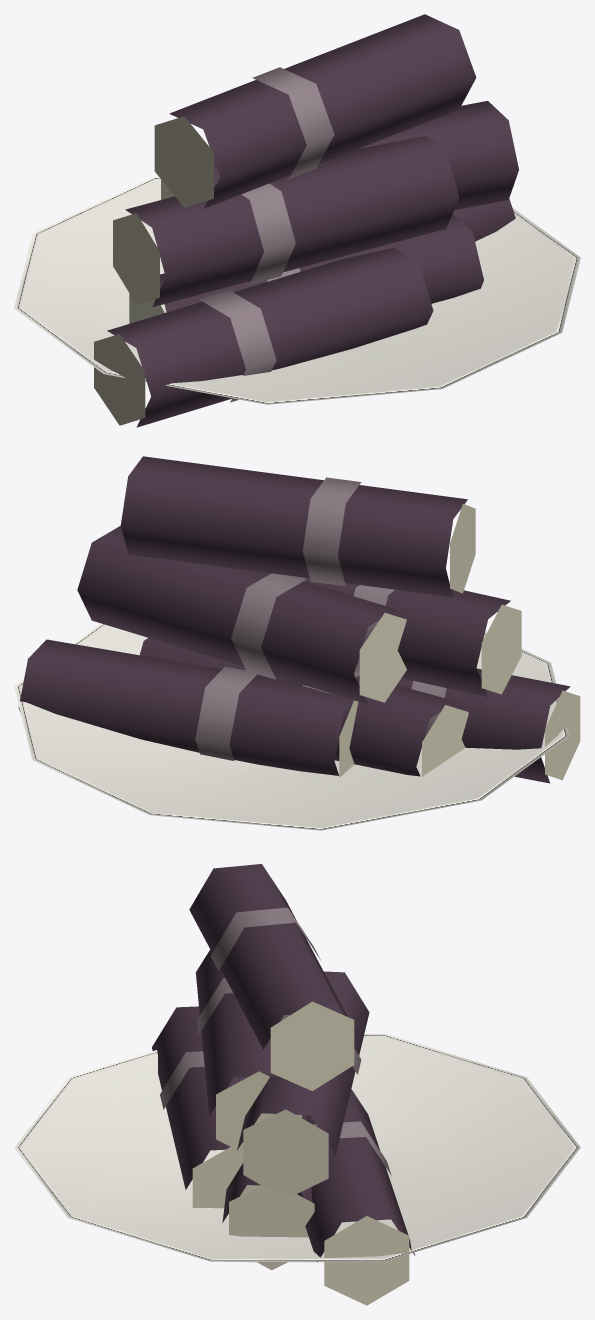
The model's file is MiaChatKhuc.glb.
The picture shows the model from 3 angles, top to bottom: view 1: azimuth 30°, elevation 25°; view 2: azimuth 150°, elevation 25°; view 3: azimuth 270°, elevation 25°; orthographic projection. The views are drawn at different scales.
Parts seen in each view (by area): view 1: MiaChatKhuc_Dia, KhucMia_4_Vo, KhucMia_6_Vo, KhucMia_1_Vo, KhucMia_5_Vo, KhucMia_2_Vo, KhucMia_6_MatCat, KhucMia_1_MatCat, KhucMia_6_Dot, KhucMia_4_MatCat, KhucMia_4_Dot, KhucMia_1_Dot (+2 smaller); view 2: MiaChatKhuc_Dia, KhucMia_6_Vo, KhucMia_5_Vo, KhucMia_3_Vo, KhucMia_4_Vo, KhucMia_2_Vo, KhucMia_1_Vo, KhucMia_6_Dot, KhucMia_5_Dot, KhucMia_3_Dot, KhucMia_5_MatCat, KhucMia_4_MatCat (+5 smaller); view 3: MiaChatKhuc_Dia, KhucMia_6_Vo, KhucMia_3_Vo, KhucMia_1_Vo, KhucMia_5_MatCat, KhucMia_6_MatCat, KhucMia_5_Vo, KhucMia_4_Vo, KhucMia_3_MatCat, KhucMia_2_MatCat, KhucMia_4_MatCat, KhucMia_1_MatCat (+5 smaller).
Boxes of the visible parts, box(x1,y1,x2,y2) form: MiaChatKhuc_Dia: box(14, 176, 580, 404); KhucMia_4_Vo: box(125, 136, 459, 307); KhucMia_6_Vo: box(169, 14, 476, 208); KhucMia_1_Vo: box(107, 248, 433, 427); KhucMia_5_Vo: box(214, 101, 518, 210); KhucMia_2_Vo: box(160, 214, 483, 312); KhucMia_6_MatCat: box(154, 116, 213, 207); KhucMia_1_MatCat: box(94, 334, 145, 425); KhucMia_6_Dot: box(252, 67, 334, 178); KhucMia_4_MatCat: box(113, 213, 159, 304); KhucMia_4_Dot: box(241, 183, 295, 284); KhucMia_1_Dot: box(199, 290, 276, 402); MiaChatKhuc_Dia: box(14, 623, 569, 830); KhucMia_6_Vo: box(120, 456, 467, 597); KhucMia_5_Vo: box(77, 525, 396, 704); KhucMia_3_Vo: box(18, 639, 353, 775); KhucMia_4_Vo: box(302, 577, 510, 697); KhucMia_2_Vo: box(140, 638, 456, 776); KhucMia_1_Vo: box(397, 668, 570, 783); KhucMia_6_Dot: box(302, 477, 361, 586); KhucMia_5_Dot: box(231, 573, 306, 679); KhucMia_3_Dot: box(195, 666, 257, 760); KhucMia_5_MatCat: box(359, 613, 406, 702); KhucMia_4_MatCat: box(481, 604, 521, 694); MiaChatKhuc_Dia: box(14, 1033, 580, 1262); KhucMia_6_Vo: box(189, 864, 358, 1049); KhucMia_3_Vo: box(297, 1089, 415, 1262); KhucMia_1_Vo: box(152, 1006, 248, 1189); KhucMia_5_MatCat: box(243, 1109, 328, 1198); KhucMia_6_MatCat: box(270, 1001, 354, 1091); KhucMia_5_Vo: box(237, 971, 369, 1154); KhucMia_4_Vo: box(195, 949, 276, 1115); KhucMia_3_MatCat: box(324, 1216, 409, 1305); KhucMia_2_MatCat: box(229, 1185, 314, 1270); KhucMia_4_MatCat: box(216, 1071, 301, 1152); KhucMia_1_MatCat: box(192, 1147, 261, 1208).
Size of the model in its own units: 0.1902 by 0.105 by 0.2.
